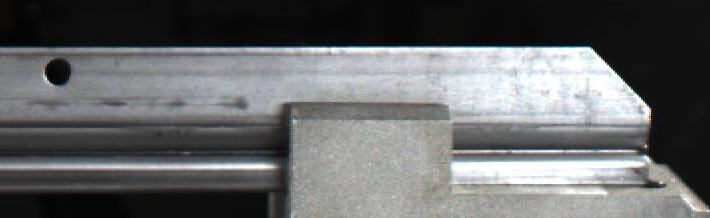cut: (486, 38, 662, 188)
holes: (43, 56, 72, 85)
